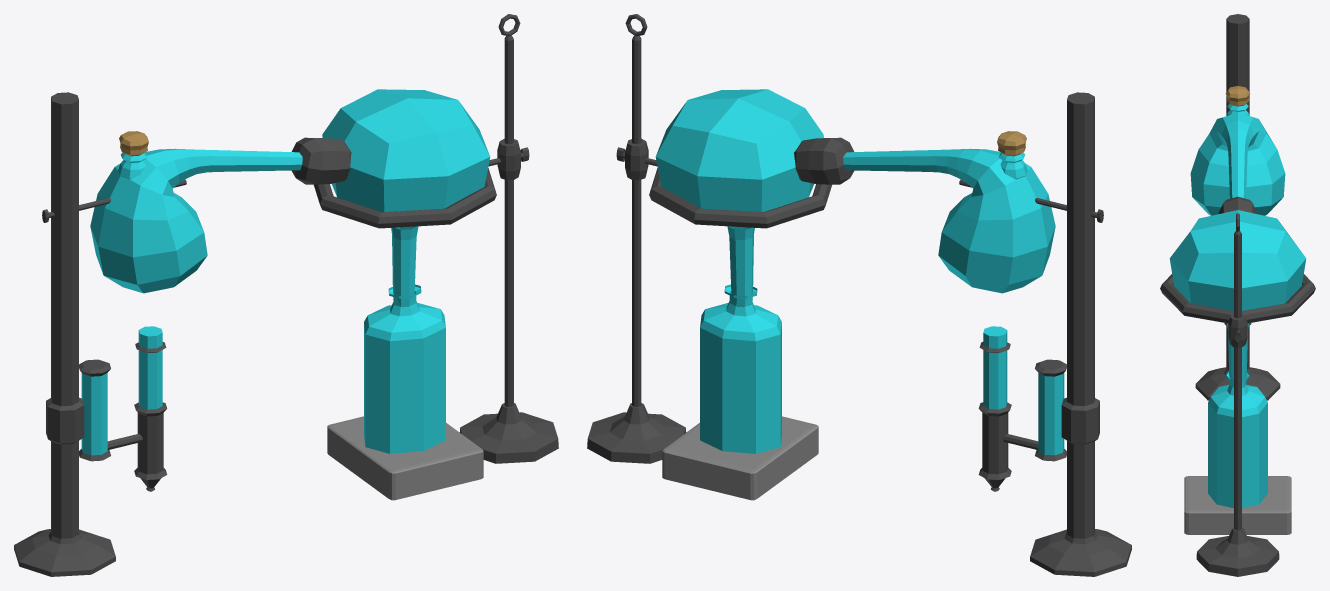
File: DoubleFunkyTubes.fbx
3 renders of one model, left to right at view 1: azimuth 30°, elevation 25°; view 2: azimuth 150°, elevation 25°; view 3: azimuth 270°, elevation 25°, orthographic. The views are drawn at different scales.
Visible parts, largest first — view 1: DoubleFunkyTubes; view 2: DoubleFunkyTubes; view 3: DoubleFunkyTubes.
Part boxes in pixels (box(x1,y1,x2,y2)): DoubleFunkyTubes: box(14, 14, 558, 576); DoubleFunkyTubes: box(587, 14, 1131, 576); DoubleFunkyTubes: box(1160, 14, 1315, 576).
Size of the model in its own units: 422 by 345 by 132.
